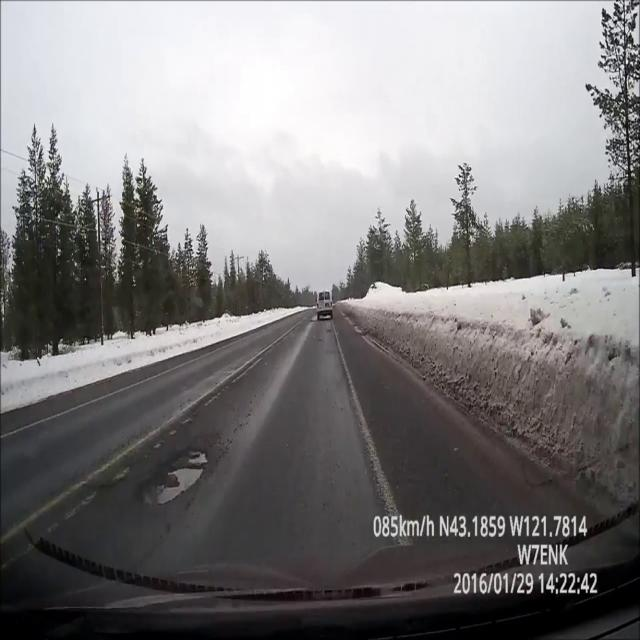Pothole: (152, 443, 211, 509), (316, 337, 324, 343), (325, 328, 332, 334)
